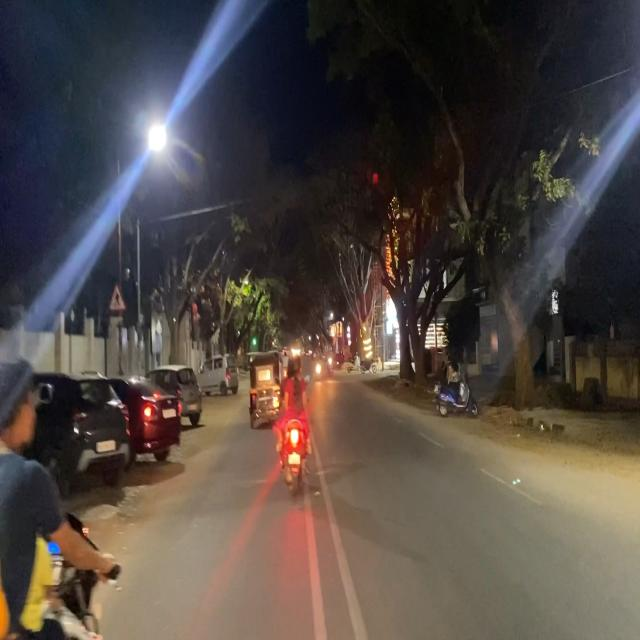bien_cam: (109, 280, 126, 315)
